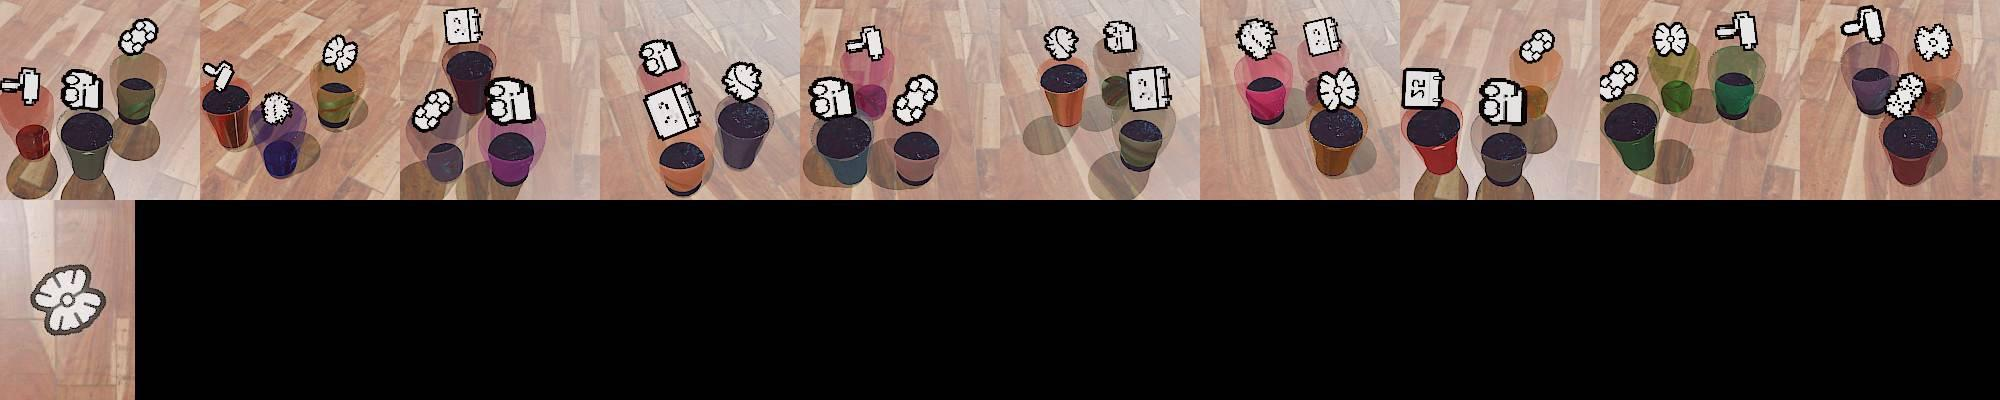icon: (29, 263, 109, 340), (643, 81, 701, 140), (485, 75, 537, 125), (1479, 75, 1527, 126), (893, 74, 938, 125), (1126, 65, 1173, 113), (809, 75, 856, 121), (1316, 67, 1360, 112), (1713, 9, 1760, 51), (1885, 72, 1927, 119), (60, 68, 104, 112), (1402, 67, 1444, 111), (1840, 5, 1885, 46), (412, 88, 453, 133), (0, 67, 43, 108), (1599, 59, 1640, 102), (721, 61, 763, 101), (1302, 15, 1342, 57), (1237, 18, 1277, 60), (639, 38, 682, 77), (443, 6, 483, 46), (1914, 23, 1953, 62), (118, 18, 158, 56), (847, 25, 887, 63), (321, 34, 358, 74), (1652, 20, 1690, 58), (202, 60, 236, 98), (1044, 25, 1079, 61), (1519, 29, 1555, 64), (1103, 20, 1137, 56), (261, 91, 294, 125)
